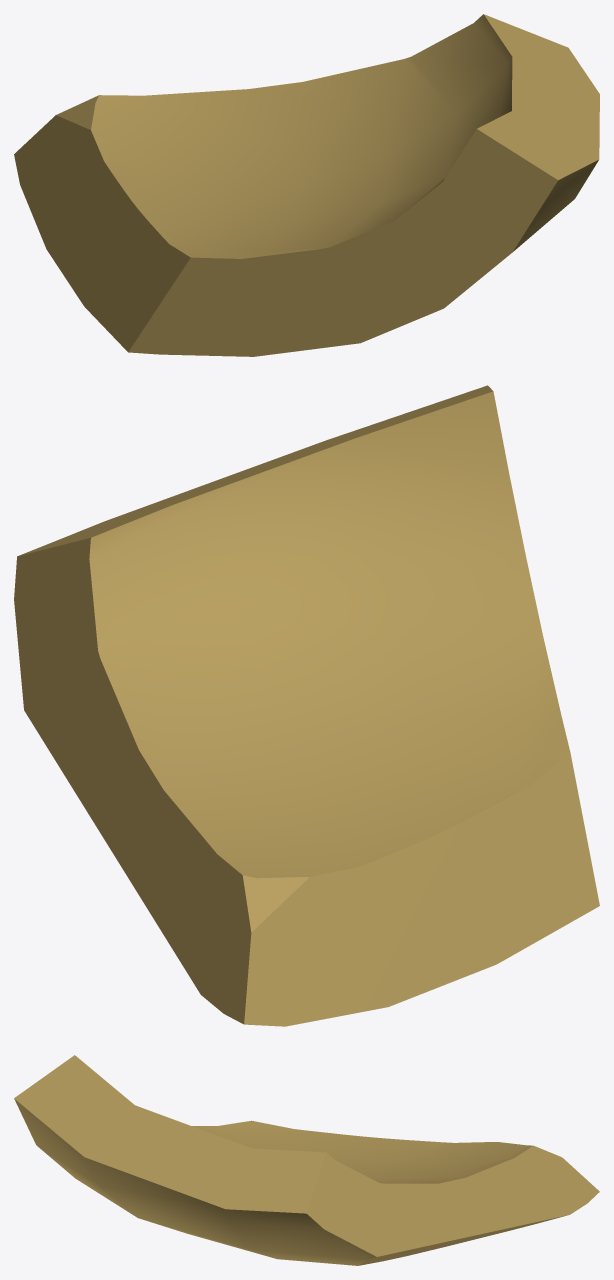
Rendered from broken_pot_cell.037.fbx.
The picture shows the model from 3 angles, top to bottom: view 1: azimuth 30°, elevation 25°; view 2: azimuth 150°, elevation 25°; view 3: azimuth 270°, elevation 25°; orthographic projection. The views are drawn at different scales.
Visible parts, largest first — view 1: broken_pot_cell.037; view 2: broken_pot_cell.037; view 3: broken_pot_cell.037.
Boxes of the visible parts, box(x1,y1,x2,y2) form: broken_pot_cell.037: box(14, 14, 599, 356); broken_pot_cell.037: box(14, 385, 599, 1026); broken_pot_cell.037: box(14, 1055, 599, 1265).
Bounding box in the file's own units: 1.04 × 1.47 × 0.5947.
